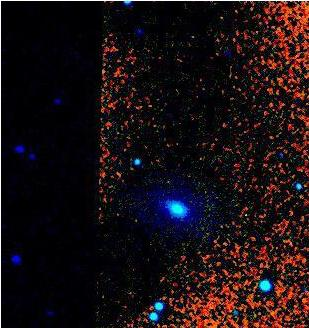star: (231, 201, 261, 231)
